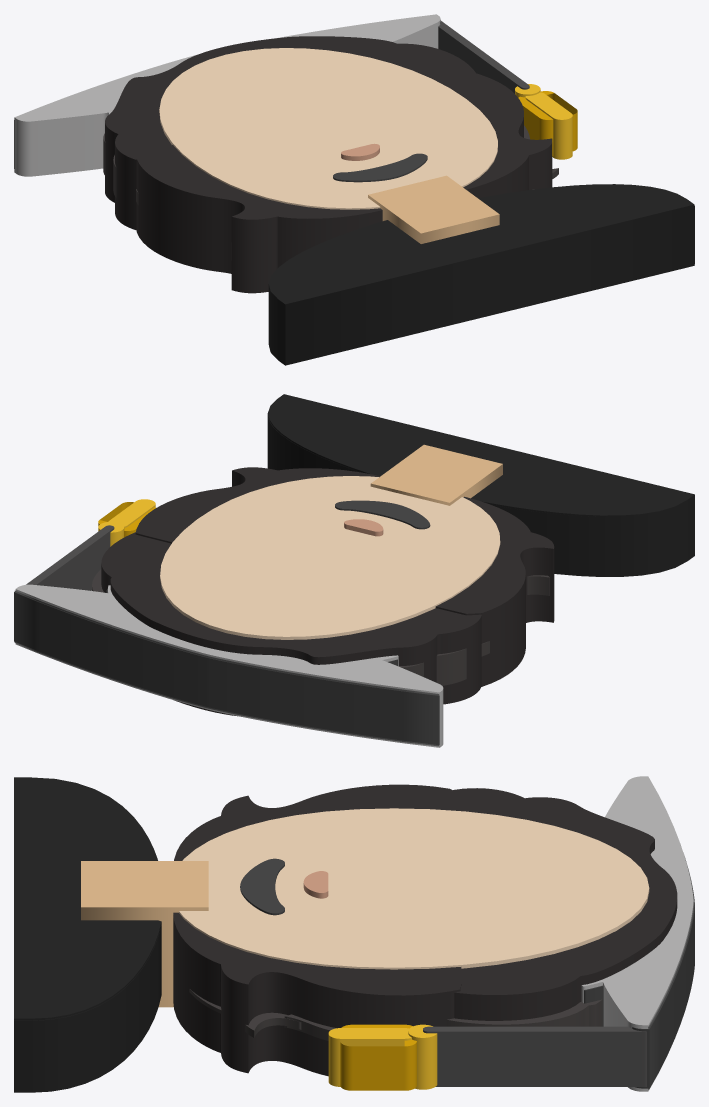
File: emoji_u1f9d1_1f3fb_200d_1f393.glb
3 renders of one model, top to bottom at view 1: azimuth 30°, elevation 25°; view 2: azimuth 150°, elevation 25°; view 3: azimuth 270°, elevation 25°, orthographic. The views are drawn at different scales.
Parts seen in each view (by area): view 1: emoji_u1f9d1_1f3fb_200d_1f393; view 2: emoji_u1f9d1_1f3fb_200d_1f393; view 3: emoji_u1f9d1_1f3fb_200d_1f393.
Part boxes in pixels (x1,y1,x2,y2): emoji_u1f9d1_1f3fb_200d_1f393: (14, 14, 694, 365); emoji_u1f9d1_1f3fb_200d_1f393: (14, 394, 694, 747); emoji_u1f9d1_1f3fb_200d_1f393: (14, 776, 694, 1092).
Bounding box in the file's own units: 0.03 × 0.0056 × 0.0334.
